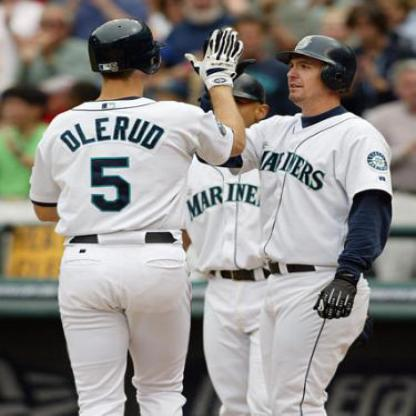face: (284, 37, 337, 106)
